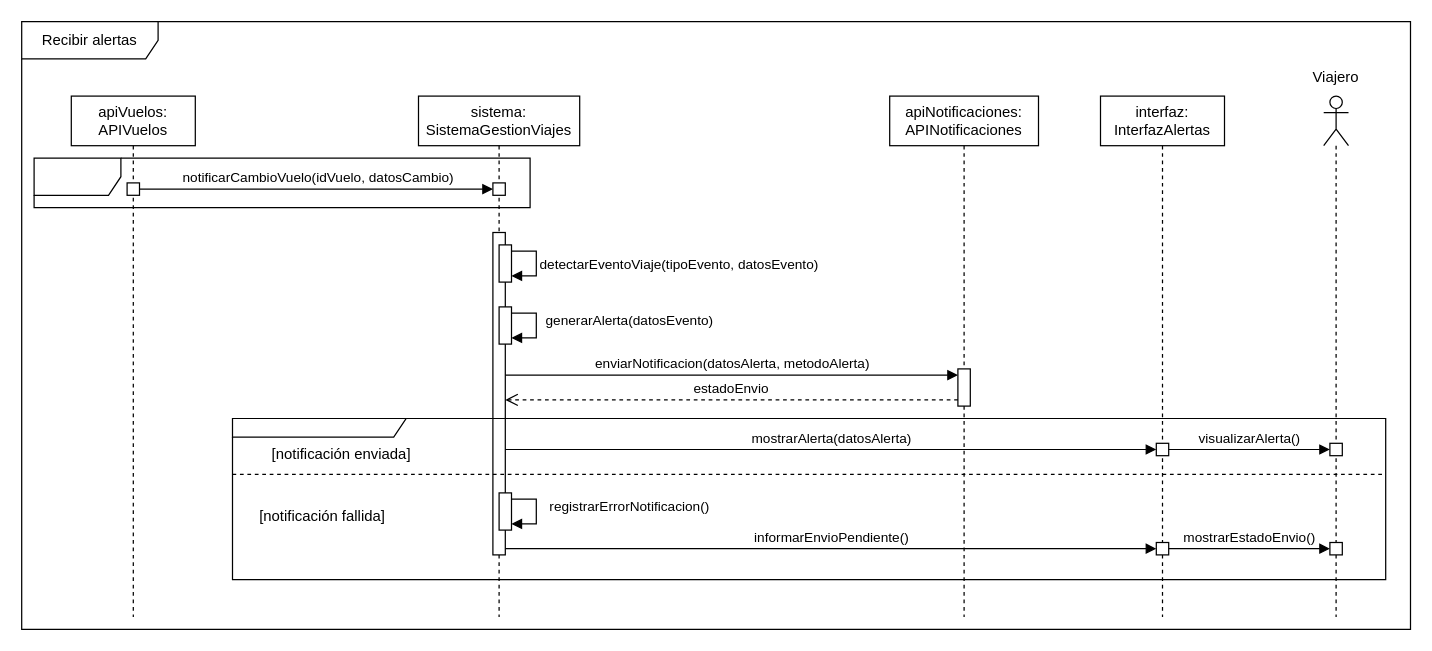
Image size: 1432x651. Some labels were removed from this diagram. The shapes that lost their labels are listed below. From the top down, each one's box as (x1, y1, x2, y2) in pixels, then its label:
(33, 157, 530, 208): opt [cambio de vuelo]
(231, 417, 1386, 580): alt estado notificación
